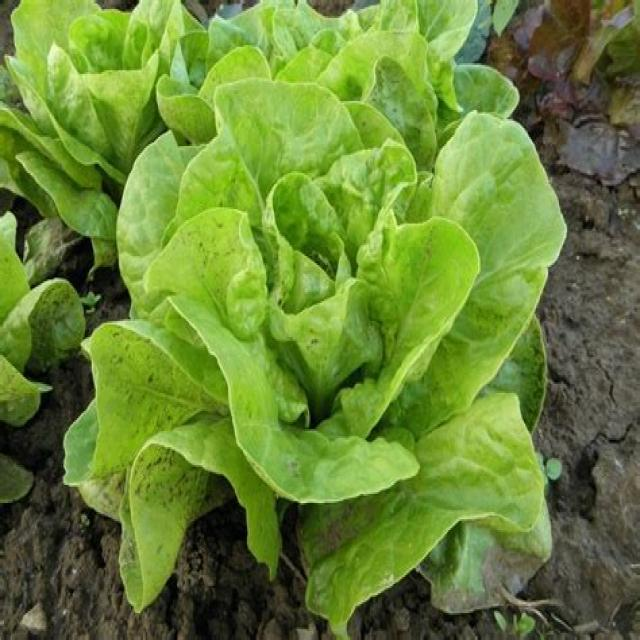Lettuce: (92, 82, 563, 598), (0, 0, 203, 242)
